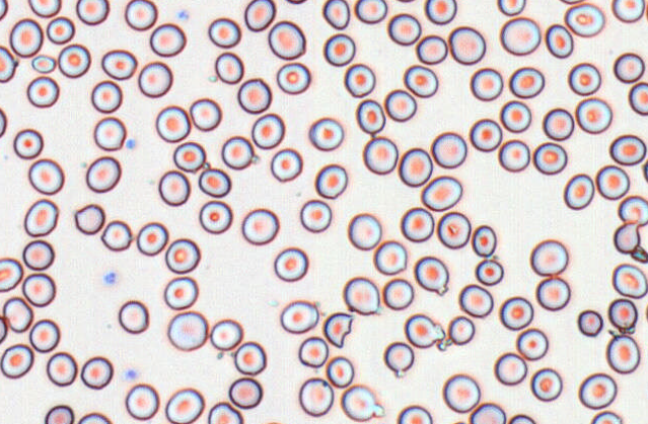PLT: (100, 270, 116, 287), (122, 366, 137, 383), (174, 10, 190, 21), (127, 138, 136, 151)
RBC: (167, 310, 208, 351), (499, 16, 541, 55), (340, 384, 383, 421), (442, 373, 480, 413), (267, 20, 305, 60), (420, 175, 462, 211), (342, 276, 380, 315), (448, 25, 485, 65), (241, 207, 279, 245), (578, 372, 617, 409), (529, 239, 568, 276), (164, 387, 204, 423), (564, 2, 605, 37), (298, 377, 334, 416), (403, 313, 443, 348), (279, 299, 319, 334), (27, 158, 64, 195), (575, 97, 612, 134), (362, 136, 398, 174), (85, 155, 121, 193), (23, 198, 58, 237), (606, 334, 640, 374), (398, 147, 432, 187), (164, 237, 200, 274), (431, 131, 467, 168), (413, 255, 448, 293), (436, 211, 471, 249), (9, 18, 43, 57), (149, 22, 186, 57), (137, 61, 172, 98), (155, 105, 190, 142), (347, 212, 381, 250), (611, 263, 647, 298), (273, 246, 308, 282), (125, 383, 159, 420), (251, 112, 285, 149), (237, 77, 271, 114), (535, 276, 570, 311), (458, 283, 493, 318), (0, 343, 34, 379), (400, 206, 434, 242), (595, 164, 629, 200), (308, 117, 344, 151), (373, 240, 407, 275), (163, 276, 198, 310), (21, 272, 55, 307), (57, 43, 91, 78), (532, 141, 567, 175), (314, 163, 347, 199), (158, 169, 190, 206), (567, 62, 601, 96), (499, 296, 533, 330), (469, 67, 503, 101), (198, 200, 232, 234), (221, 135, 254, 170), (93, 116, 126, 151), (403, 64, 438, 97), (508, 66, 544, 98), (609, 134, 646, 165), (563, 173, 594, 210), (493, 352, 527, 385), (233, 341, 266, 375), (80, 355, 113, 389), (469, 118, 502, 152), (530, 367, 562, 402), (136, 221, 168, 256), (270, 147, 302, 182), (2, 296, 33, 332), (101, 49, 137, 80), (515, 327, 548, 360), (299, 199, 332, 232), (209, 318, 243, 350), (228, 377, 262, 409), (387, 13, 421, 45), (90, 79, 122, 113), (384, 88, 416, 122), (189, 97, 221, 131), (343, 63, 375, 97), (276, 62, 310, 94), (46, 351, 77, 386), (118, 299, 149, 334), (355, 98, 385, 134), (382, 277, 414, 310), (498, 139, 530, 172), (323, 33, 355, 66), (26, 75, 59, 107), (542, 107, 574, 140), (29, 318, 60, 352), (172, 141, 206, 172), (207, 17, 241, 48), (607, 297, 637, 332), (100, 219, 132, 251), (499, 100, 531, 132), (383, 341, 414, 374), (544, 23, 573, 58), (22, 239, 54, 270), (243, 0, 275, 31), (613, 52, 645, 83), (198, 167, 231, 197), (124, 0, 157, 30), (214, 51, 244, 84), (74, 203, 105, 234), (298, 336, 328, 368), (415, 34, 447, 64), (617, 195, 647, 226), (13, 128, 43, 159), (326, 355, 354, 388), (613, 221, 640, 254), (471, 224, 497, 257), (75, 0, 109, 25), (447, 315, 475, 345), (46, 16, 75, 44), (474, 258, 503, 286), (322, 0, 350, 29), (0, 257, 23, 292), (468, 402, 506, 423), (207, 401, 243, 423), (354, 0, 387, 24), (611, 0, 645, 23), (424, 0, 456, 24), (577, 309, 603, 336), (396, 404, 432, 423), (628, 81, 647, 115), (0, 45, 17, 82), (27, 0, 61, 17), (44, 404, 74, 423), (31, 54, 56, 73), (497, 0, 525, 16), (590, 410, 623, 423), (77, 412, 111, 423), (630, 245, 647, 263), (507, 413, 536, 423), (0, 107, 7, 137), (0, 315, 7, 343), (0, 0, 8, 20), (642, 158, 648, 183), (559, 0, 585, 5), (259, 420, 286, 424), (284, 0, 307, 4), (449, 420, 467, 424), (645, 300, 648, 322), (394, 0, 416, 3)
Schistocyte: (324, 312, 354, 349)
